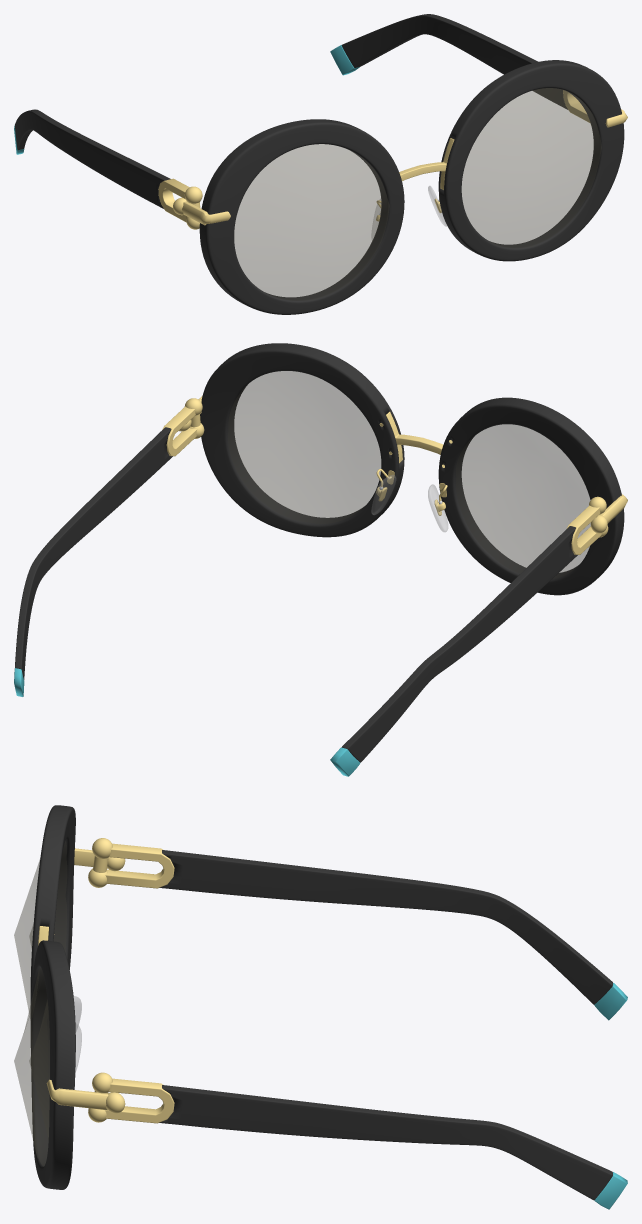
Rendered from Sunglasses.glb.
3 renders of one model, top to bottom at view 1: azimuth 30°, elevation 25°; view 2: azimuth 150°, elevation 25°; view 3: azimuth 270°, elevation 25°, orthographic. The views are drawn at different scales.
Visible parts, largest first — view 1: Plane.004; view 2: Plane.004; view 3: Plane.004.
Boxes of the visible parts, bbox=[...] form: Plane.004: bbox=[14, 14, 627, 314]; Plane.004: bbox=[14, 343, 627, 776]; Plane.004: bbox=[14, 805, 627, 1209].
Bounding box in the file's own units: 0.1538 × 0.0647 × 0.159.
